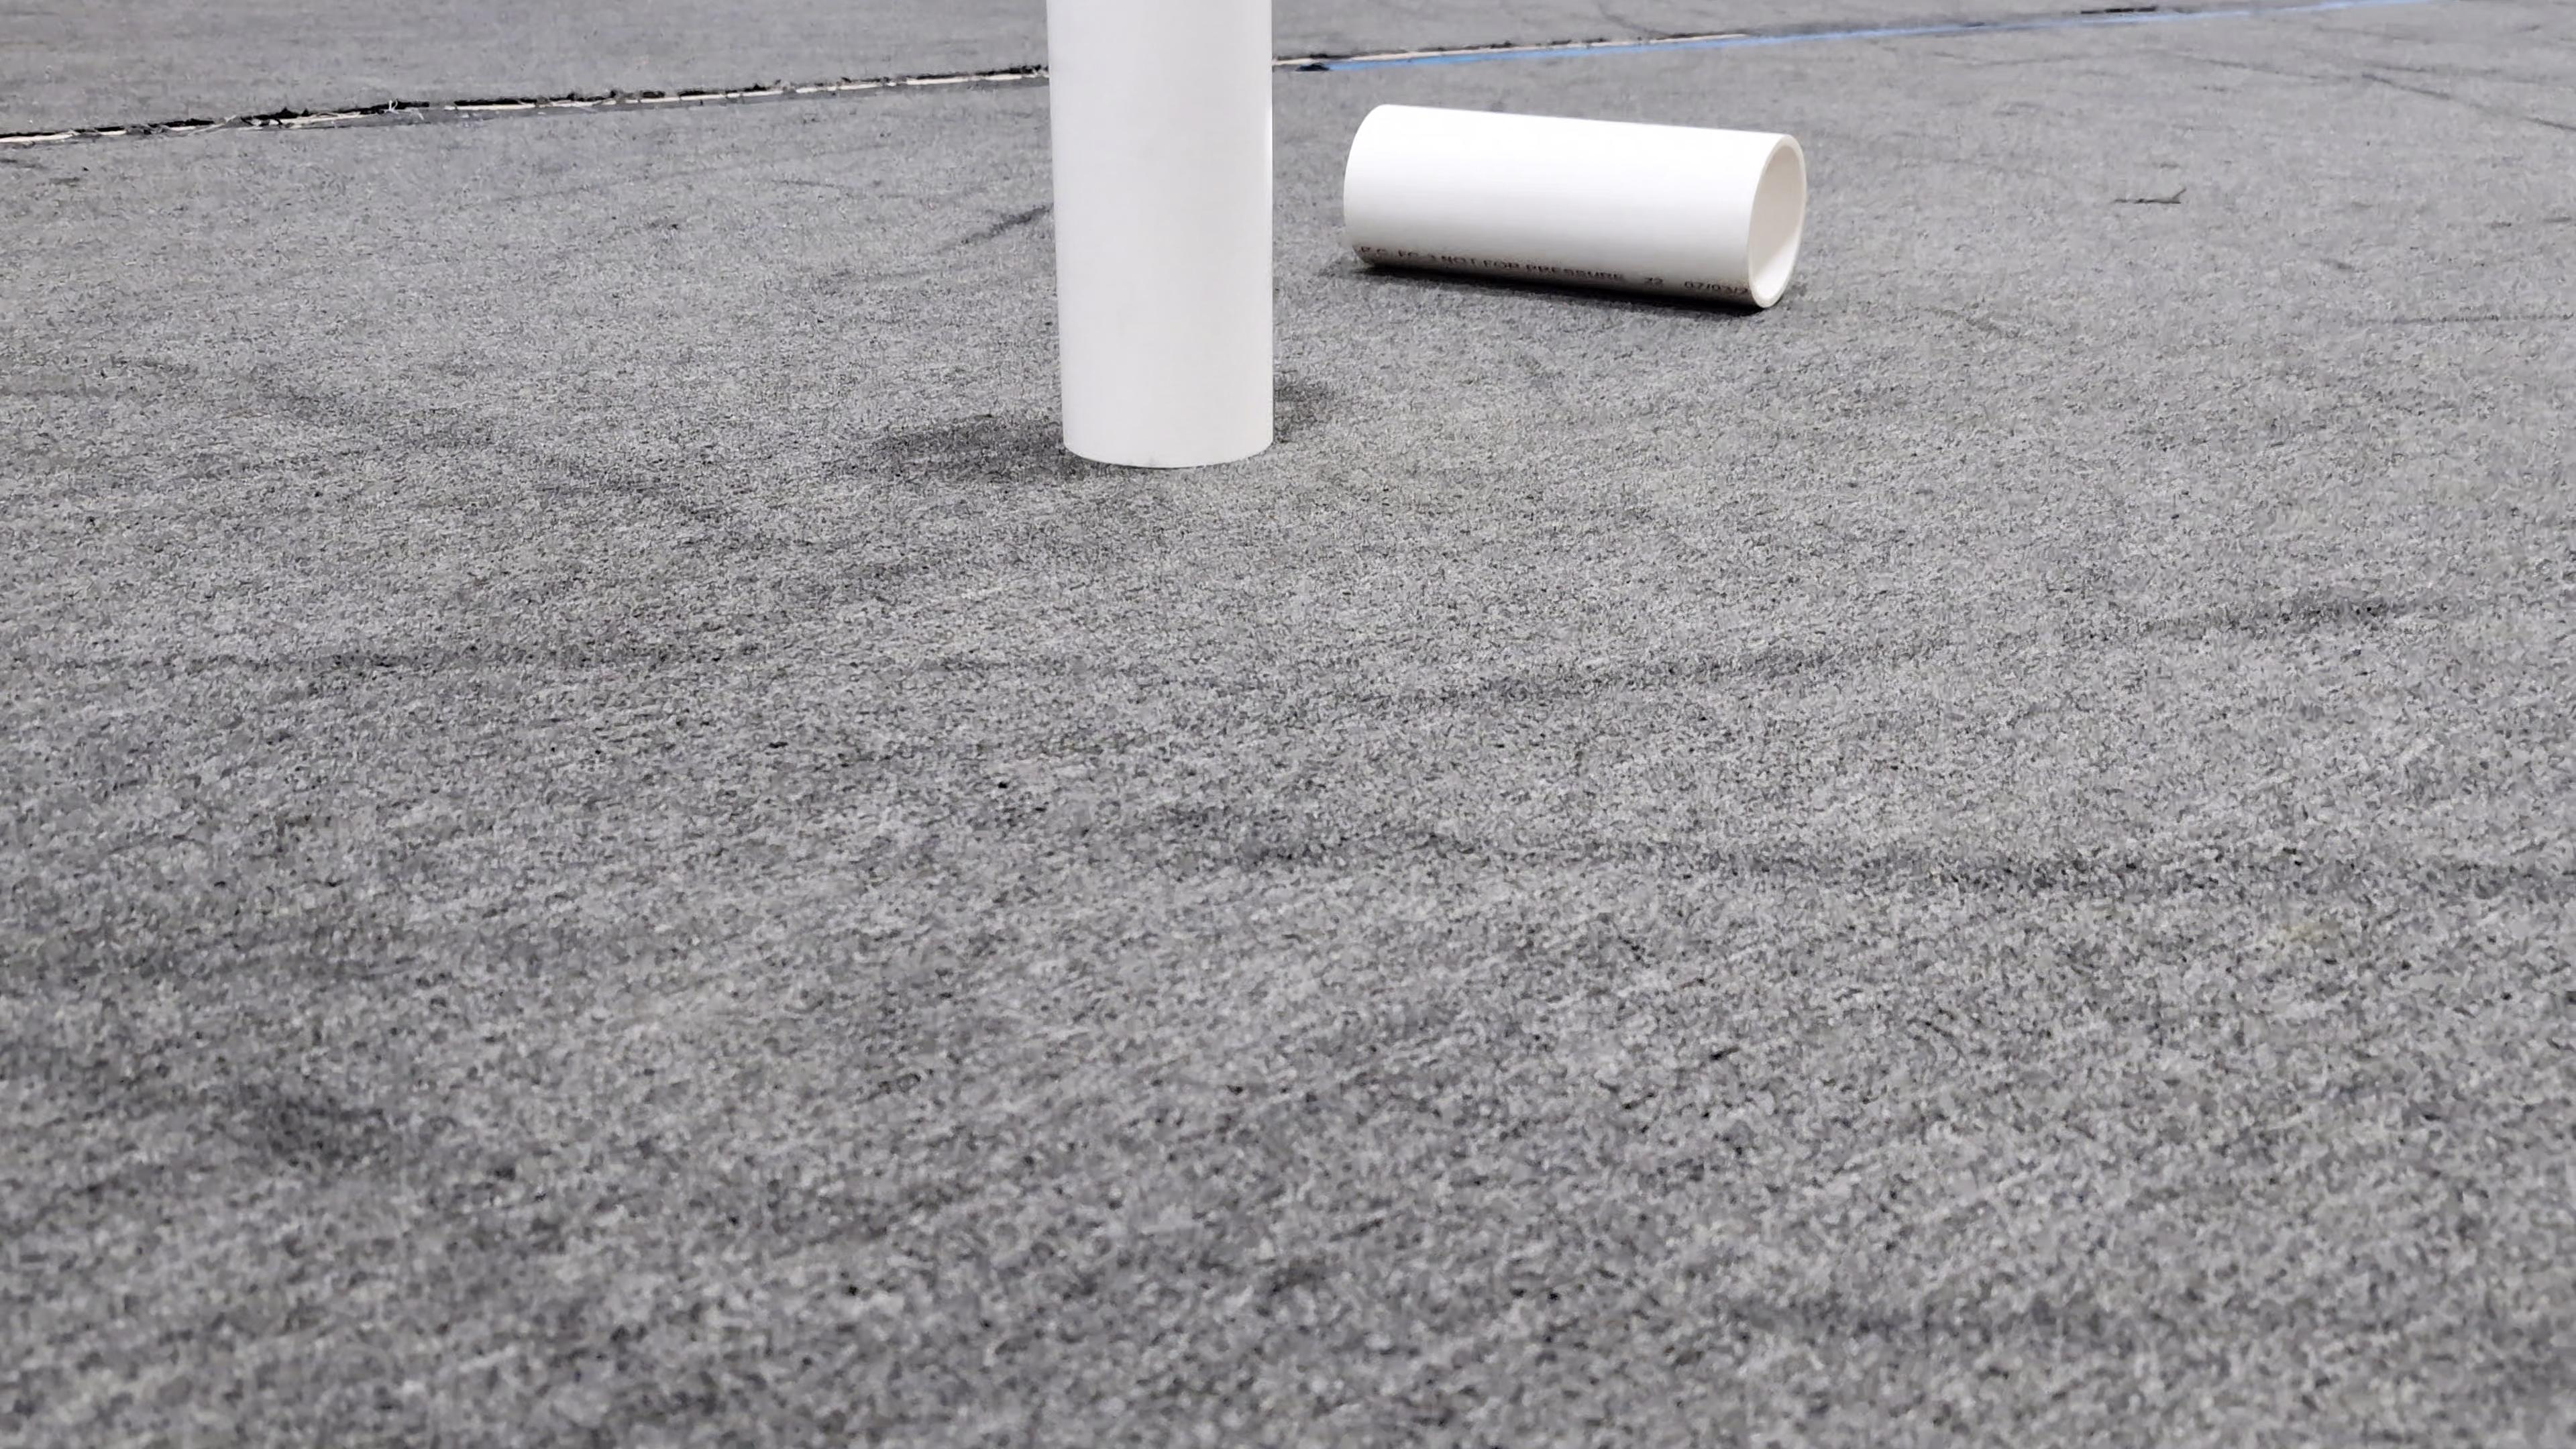coral: (1039, 0, 1279, 467), (1341, 101, 1808, 303)
